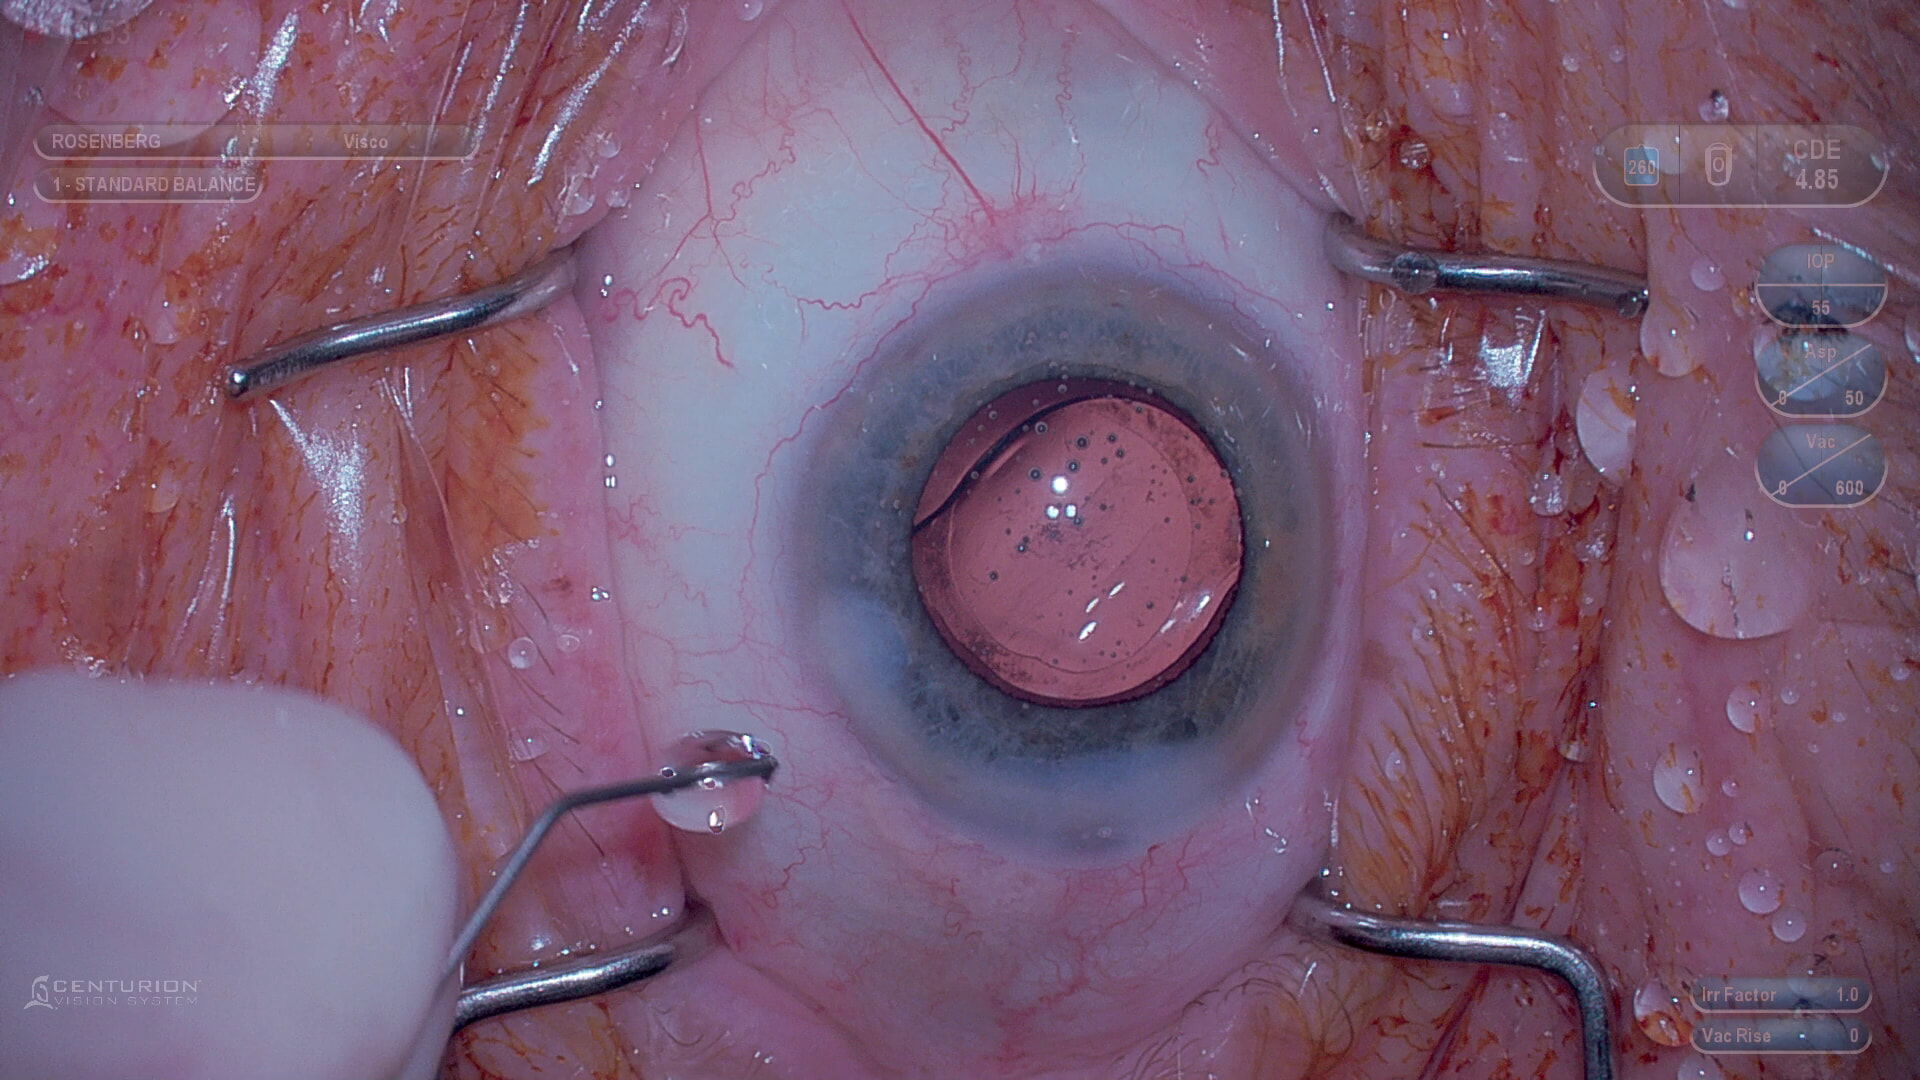iris: (820, 278, 1316, 838)
pupil: (903, 372, 1244, 705)
